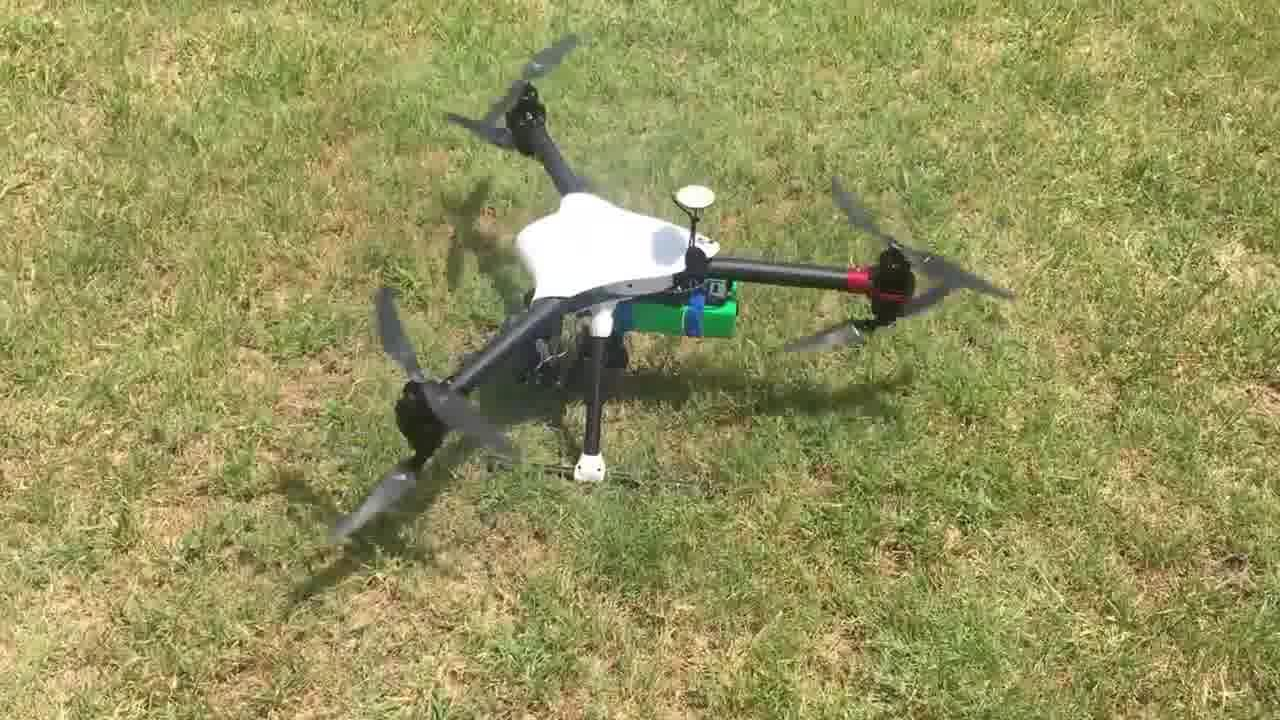drone: (321, 33, 902, 559)
